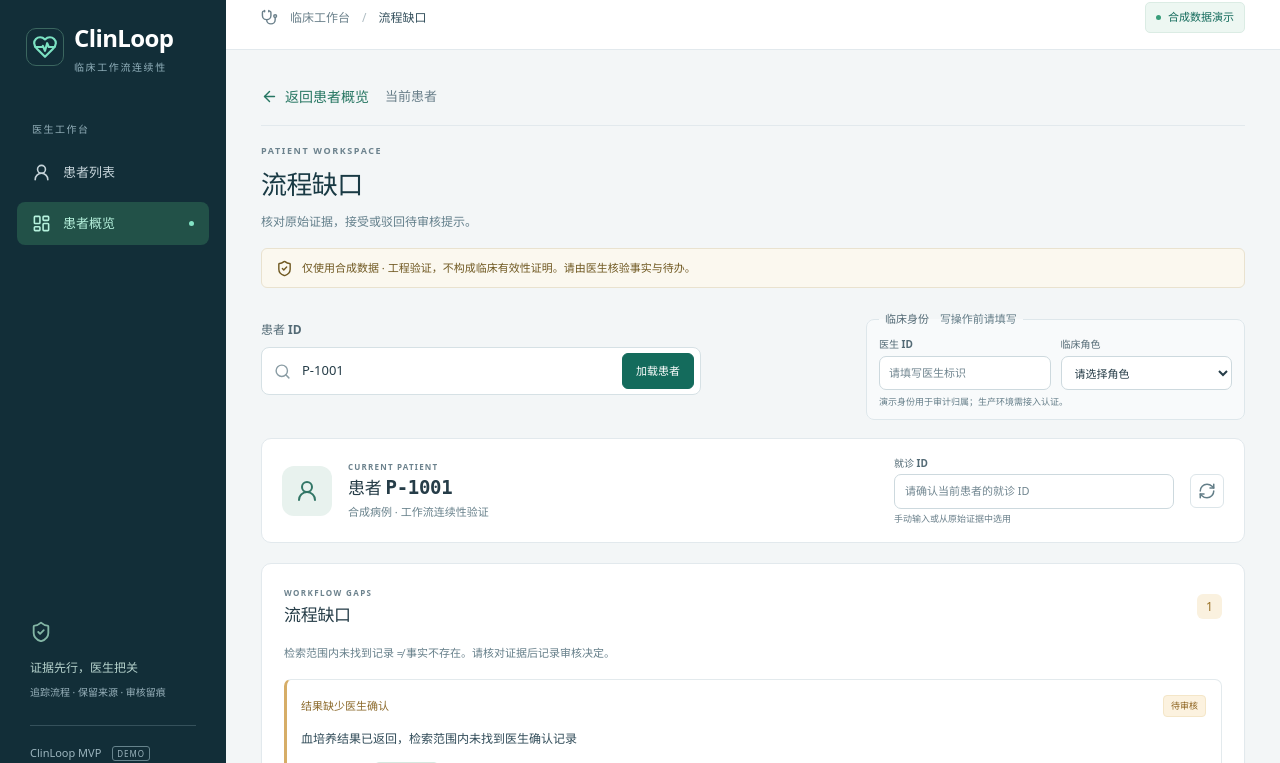
Test: finding review › accepts with entered actor headers and preserves original claim and evidence
The width and height of the screenshot is (1280, 763).
In the field labelled "医生 ID": (965, 373) top-left (879, 356), bottom-right (1050, 390), type "DR-EXPLICIT"
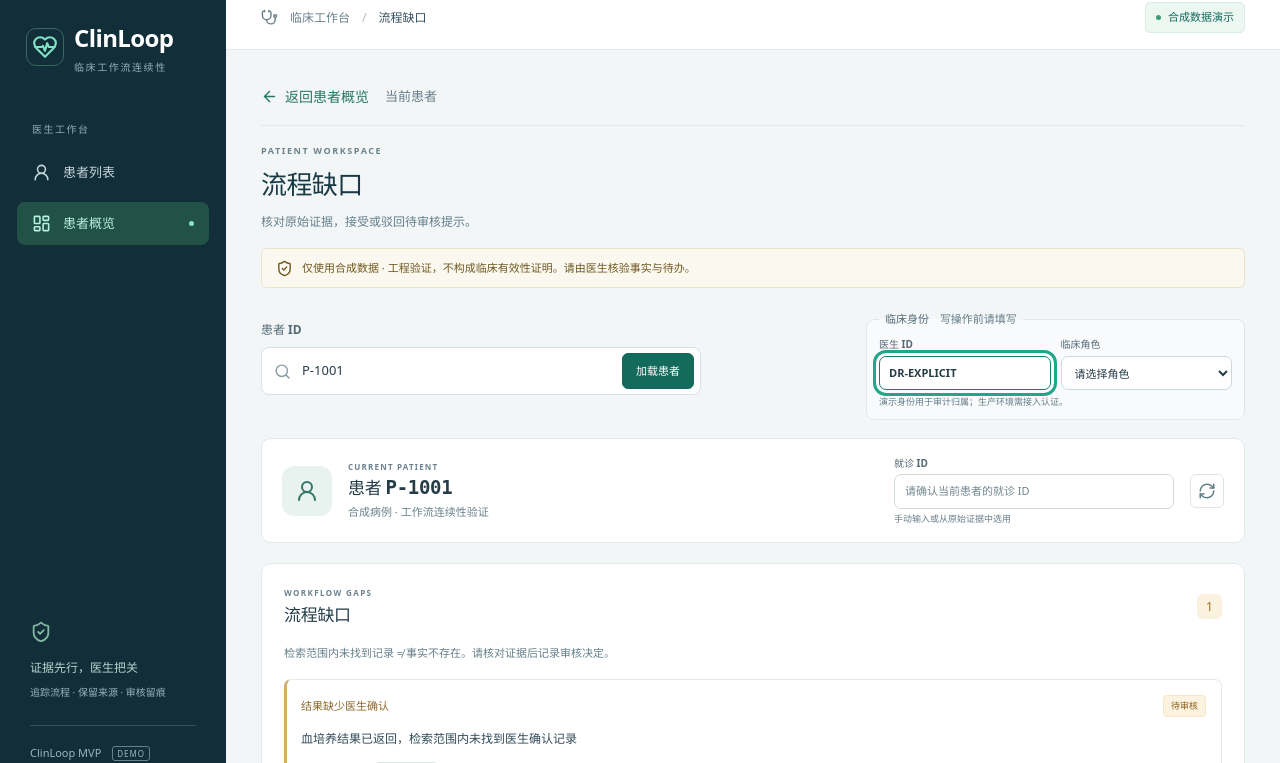
Select "医生 · PHYSICIAN" in the dropdown labelled "临床角色": (1146, 373) top-left (1060, 356), bottom-right (1232, 390)
(page scrolled)
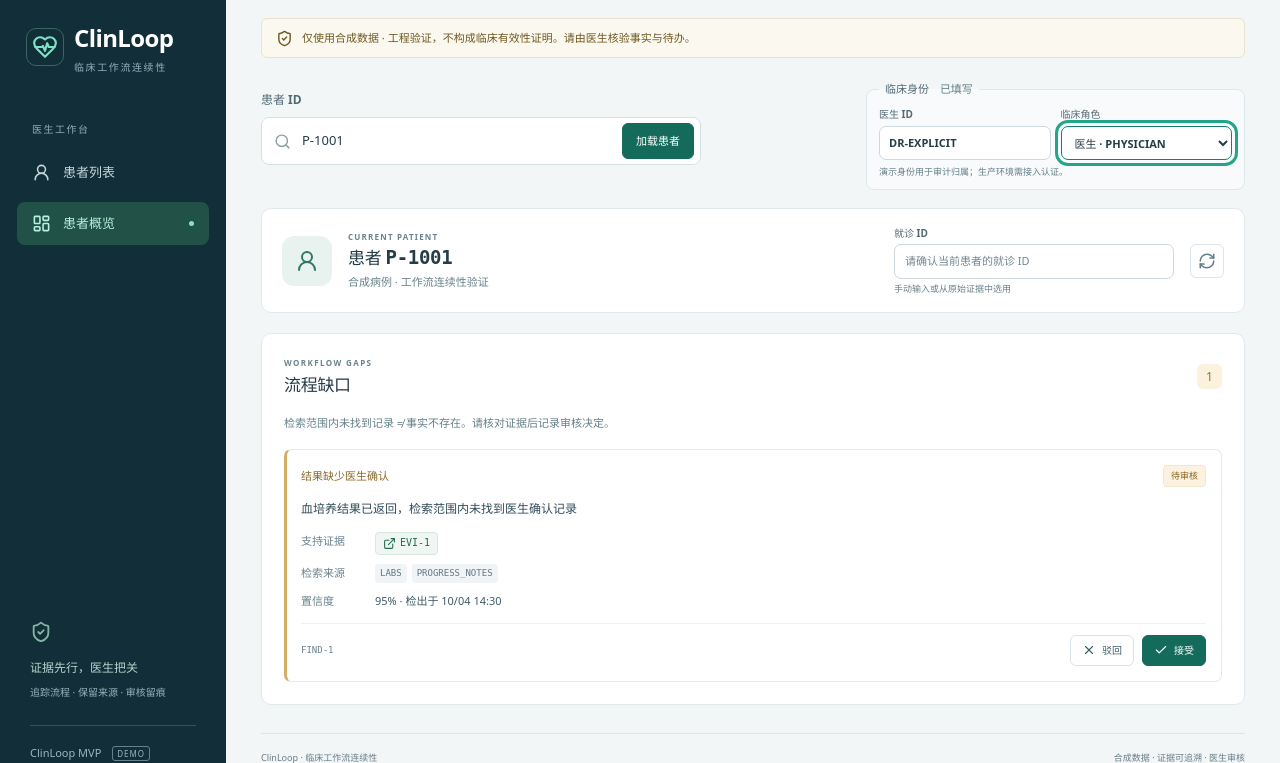
Click the button "接受": (1174, 650) top-left (1142, 635), bottom-right (1206, 666)
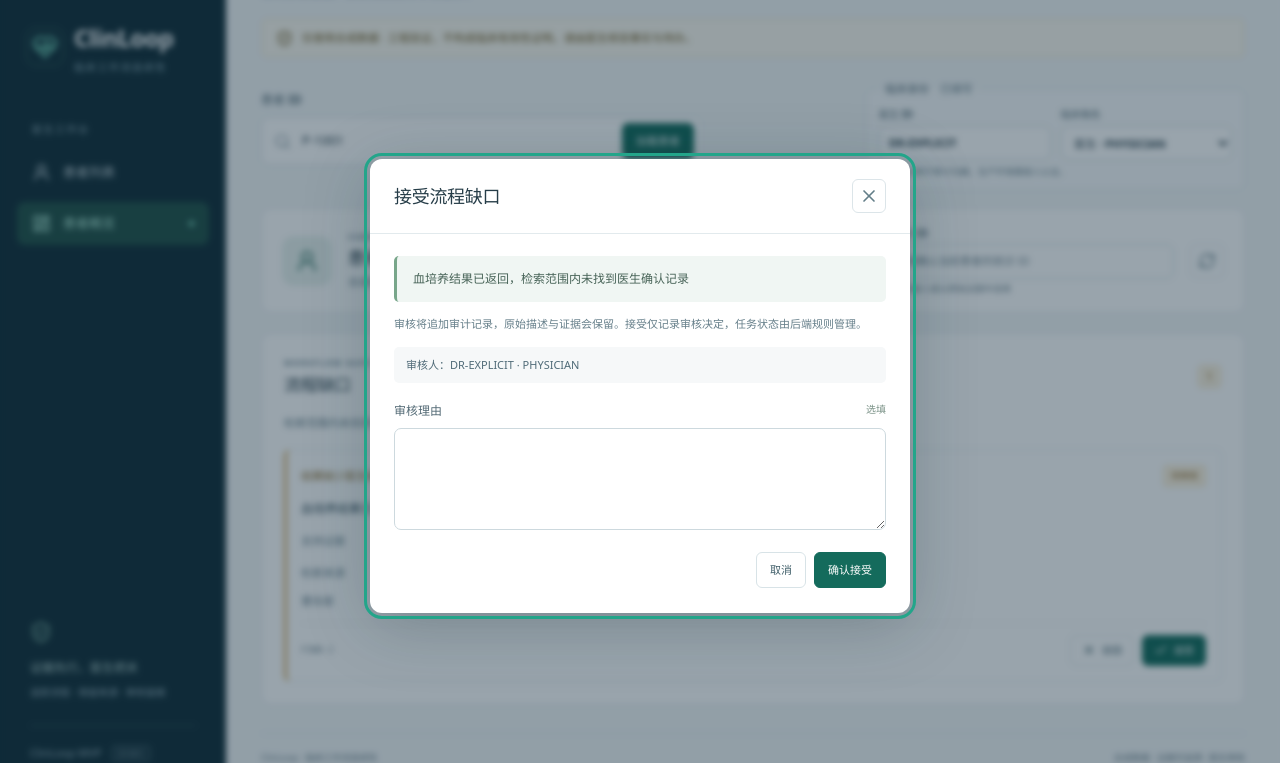
Click the button "确认接受": (850, 570) top-left (814, 552), bottom-right (886, 588)
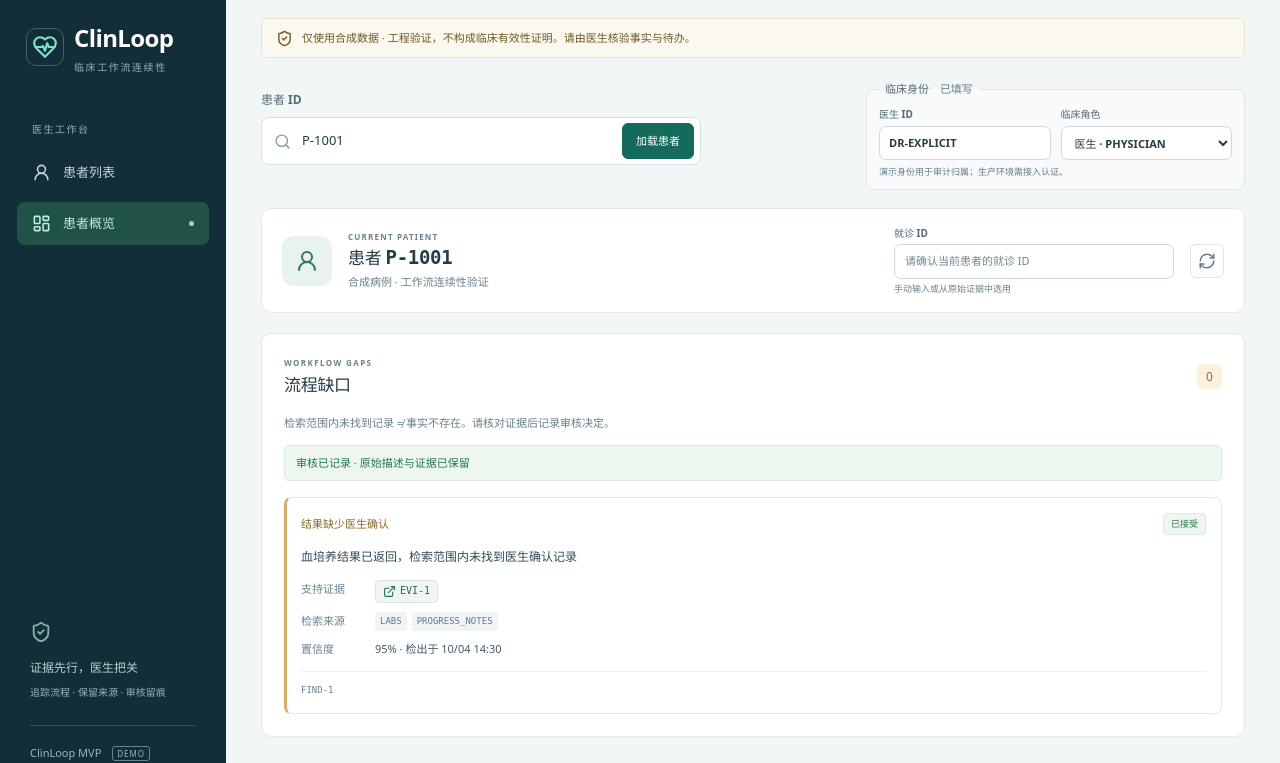
expect the text "血培养结果已返回，检索范围内未找到医生确认记录" is shown: met, box top-left (301, 548), bottom-right (577, 565)
expect the text "审核已记录 · 原始描述与证据已保留" is shown: met, box top-left (284, 445), bottom-right (1222, 481)
expect the text "已接受" is shown: met, box top-left (1163, 513), bottom-right (1206, 535)
